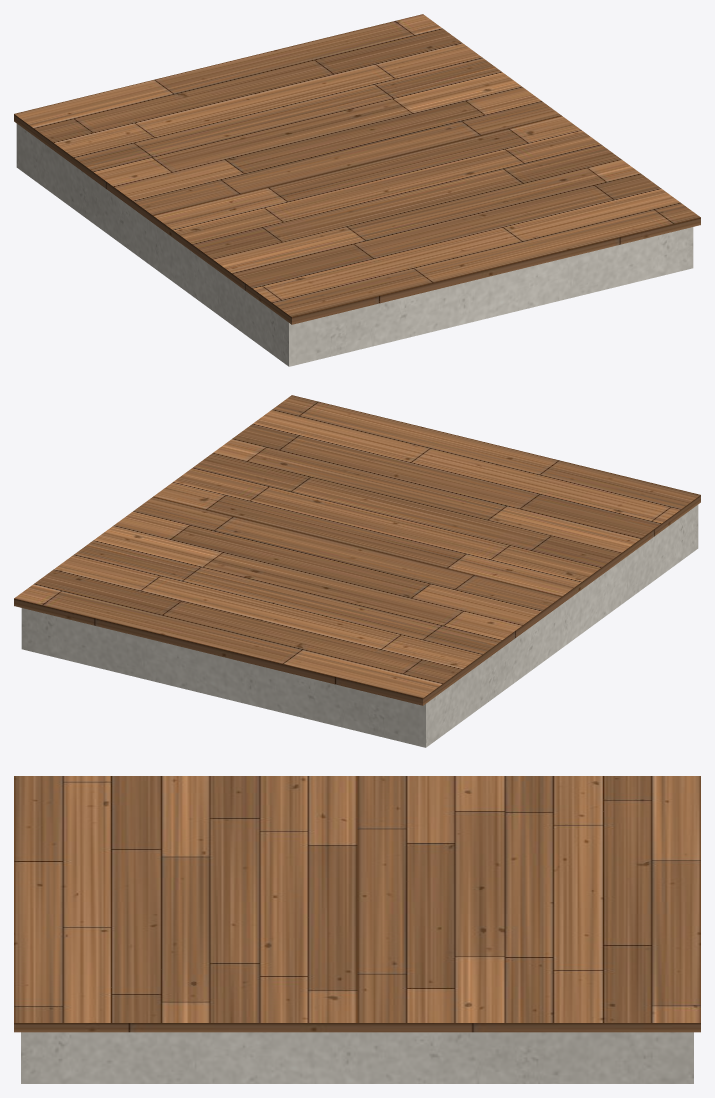
File: floor_wood_u_e30_0_0_0.glb
3 renders of one model, top to bottom at view 1: azimuth 30°, elevation 25°; view 2: azimuth 150°, elevation 25°; view 3: azimuth 270°, elevation 25°, orthographic. The views are drawn at different scales.
Visible parts, largest first — view 1: floor_wood_u_e30_0_0_0_floor, floor_wood_u_e30_0_0_0_plaster; view 2: floor_wood_u_e30_0_0_0_floor, floor_wood_u_e30_0_0_0_plaster; view 3: floor_wood_u_e30_0_0_0_floor, floor_wood_u_e30_0_0_0_plaster.
Boxes of the visible parts, left/top/right/bottom form: floor_wood_u_e30_0_0_0_floor: left=14, top=14, right=700, bottom=324; floor_wood_u_e30_0_0_0_plaster: left=16, top=124, right=693, bottom=366; floor_wood_u_e30_0_0_0_floor: left=14, top=395, right=700, bottom=705; floor_wood_u_e30_0_0_0_plaster: left=21, top=505, right=698, bottom=747; floor_wood_u_e30_0_0_0_floor: left=14, top=776, right=700, bottom=1032; floor_wood_u_e30_0_0_0_plaster: left=21, top=1032, right=693, bottom=1083.
Bounding box in the file's own units: 1.7 × 0.205 × 2.
Materials: 2 (2 with a texture image).
